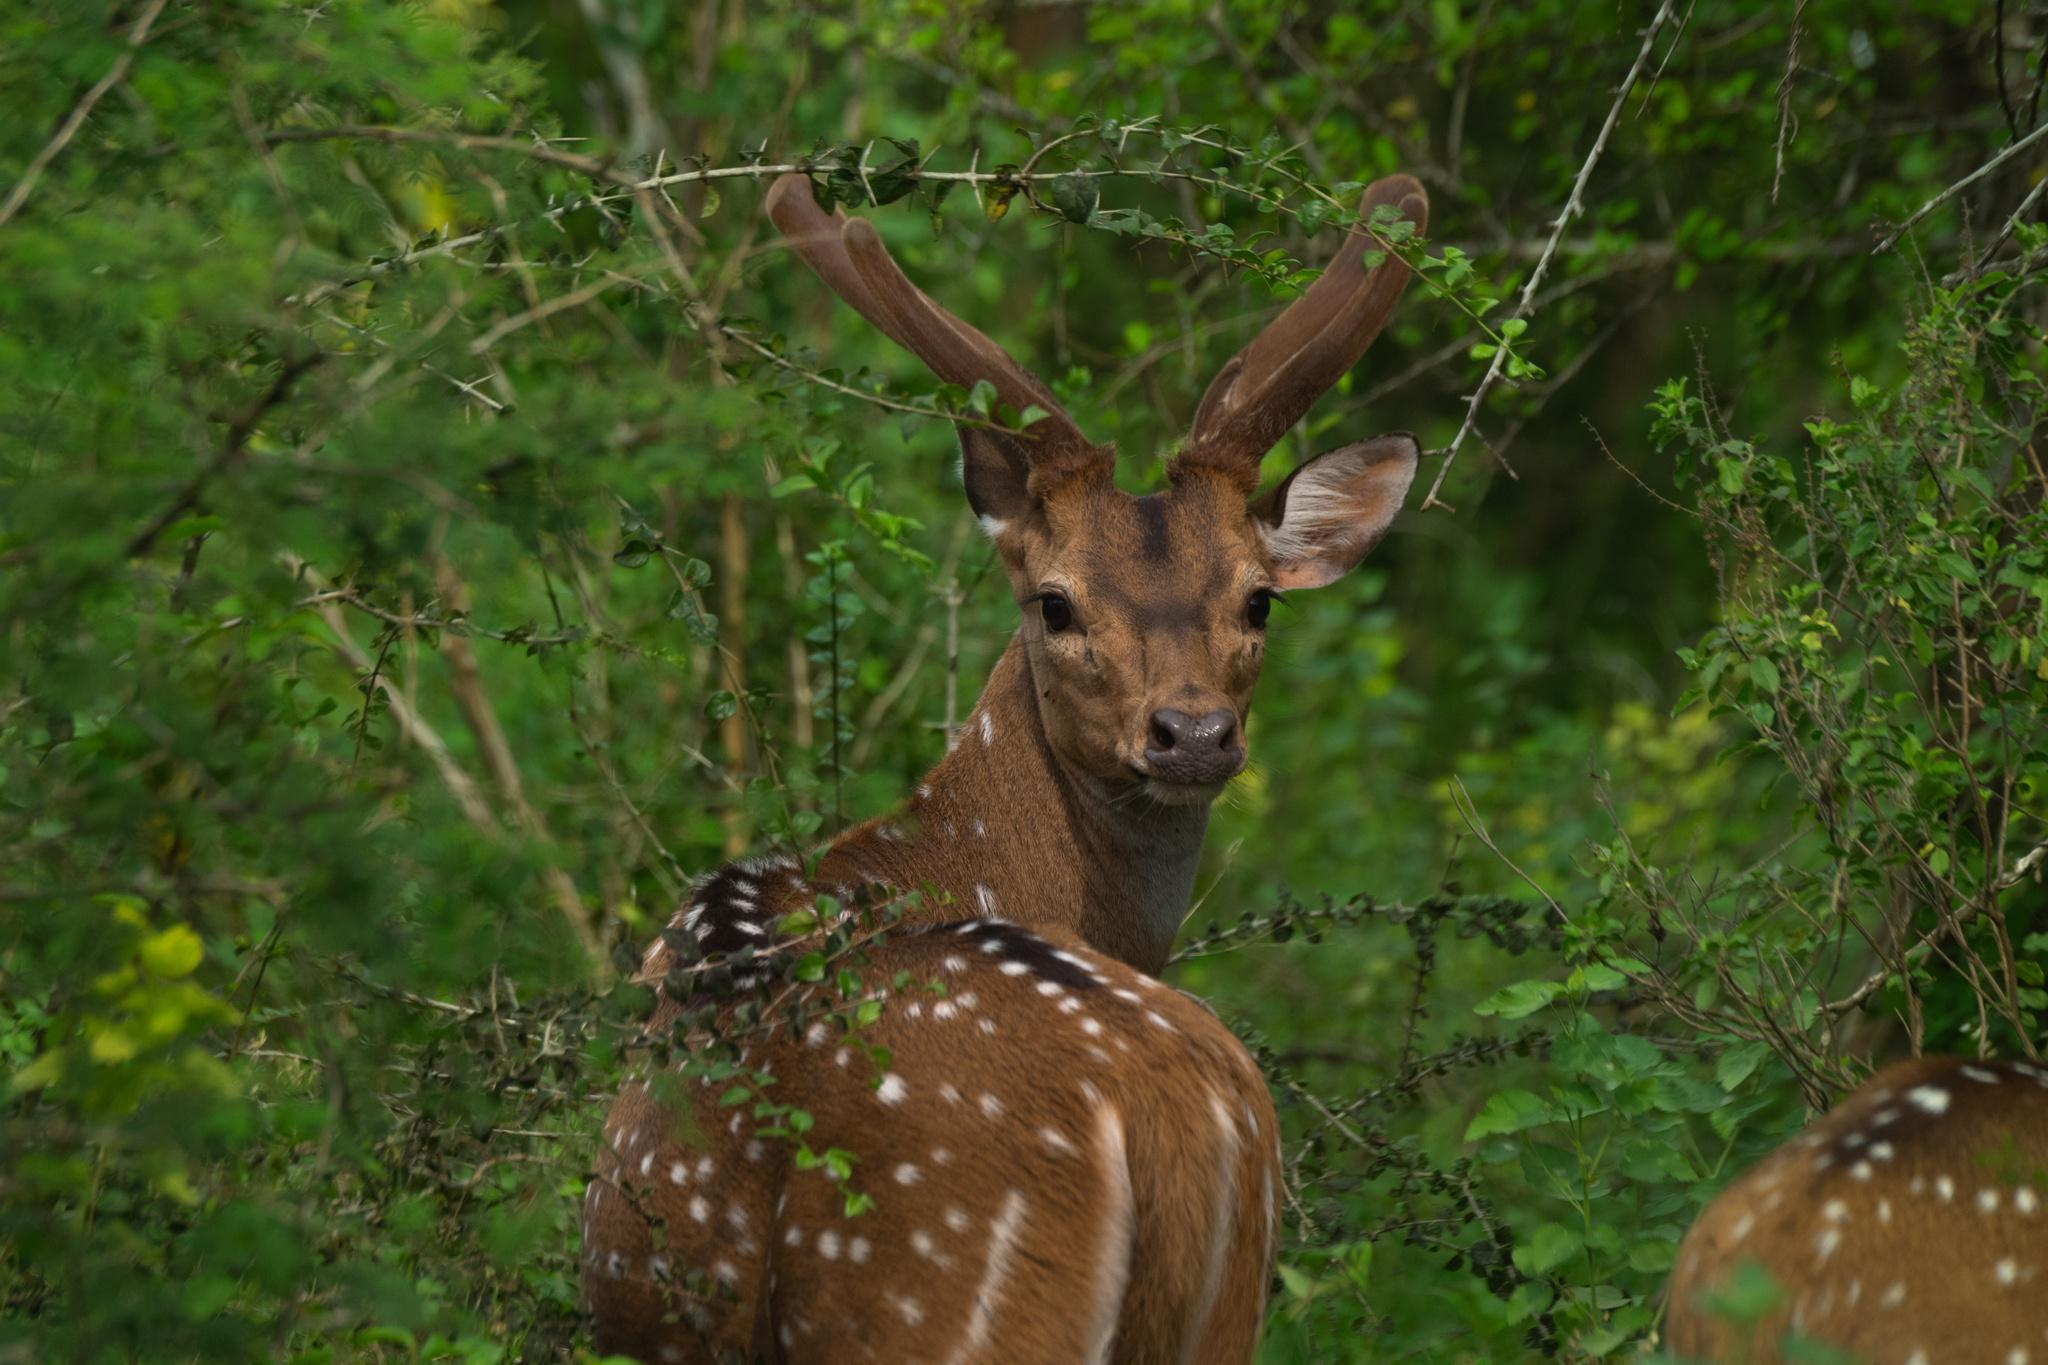Deer: (582, 177, 1418, 1363), (1663, 1056, 2046, 1363)
